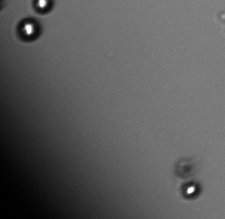Dead Cell: (174, 158, 199, 177)
Living Cell: (15, 16, 42, 42), (181, 180, 200, 199), (30, 1, 55, 14)
